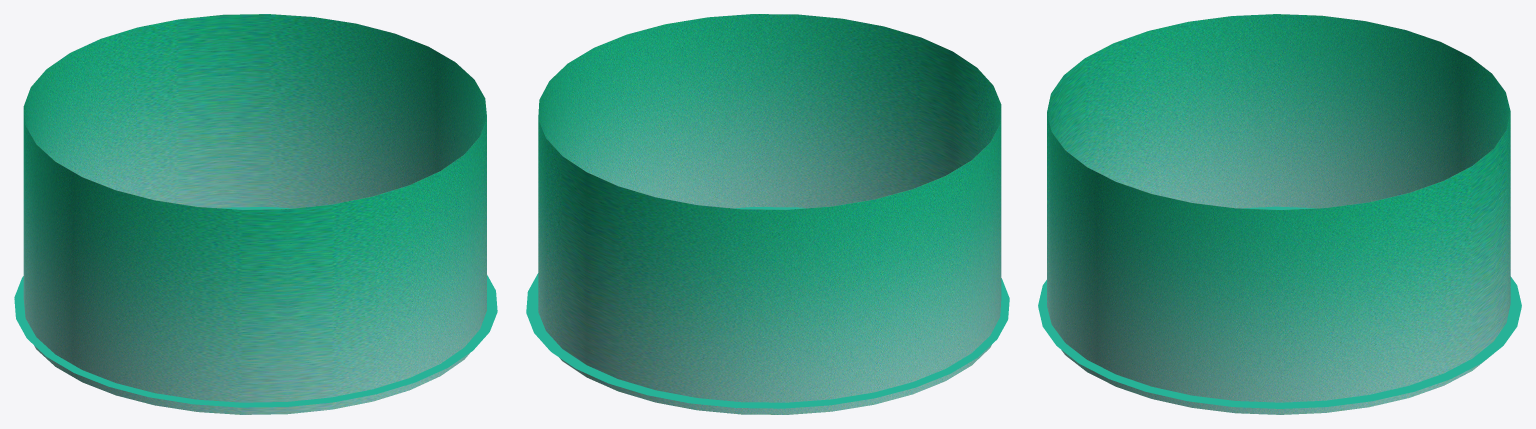
Rendered from teleportationSpotBasev5.fbx.
The picture shows the model from 3 angles, left to right: view 1: azimuth 30°, elevation 25°; view 2: azimuth 150°, elevation 25°; view 3: azimuth 270°, elevation 25°; orthographic projection.
Parts seen in each view (by area): view 1: Cylinder.018; view 2: Cylinder.018; view 3: Cylinder.018.
Part boxes in pixels (x1,y1,x2,y2): Cylinder.018: [14, 14, 497, 414]; Cylinder.018: [526, 14, 1009, 414]; Cylinder.018: [1038, 14, 1521, 414].
Size of the model in its own units: 65.52 by 30.63 by 65.52.
2 materials, 2 textured.
